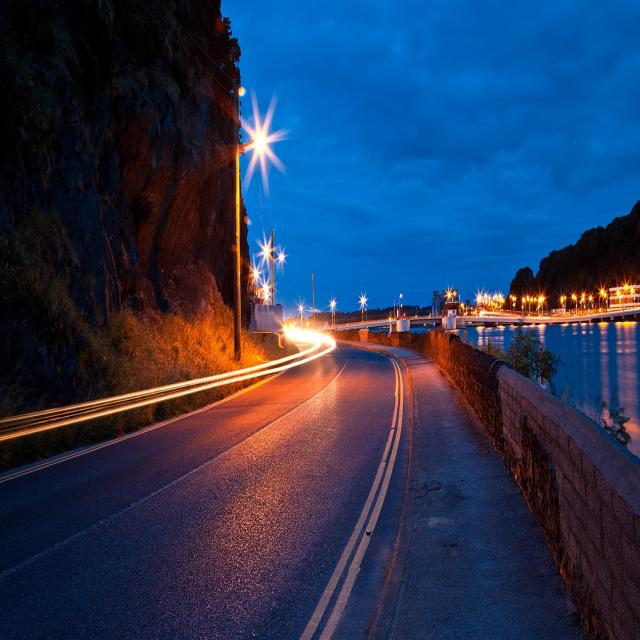streetlight: (248, 119, 272, 160), (471, 288, 506, 312), (521, 288, 548, 306), (258, 236, 274, 266), (356, 288, 372, 316), (618, 278, 634, 302), (325, 294, 340, 319), (294, 298, 307, 323), (260, 277, 272, 299), (598, 283, 610, 302), (262, 289, 273, 309), (277, 245, 286, 269), (252, 264, 262, 284), (568, 289, 578, 309), (586, 292, 596, 311), (578, 289, 586, 310), (396, 286, 405, 303), (445, 286, 453, 302), (560, 290, 568, 306), (509, 290, 518, 304), (452, 285, 458, 297)
